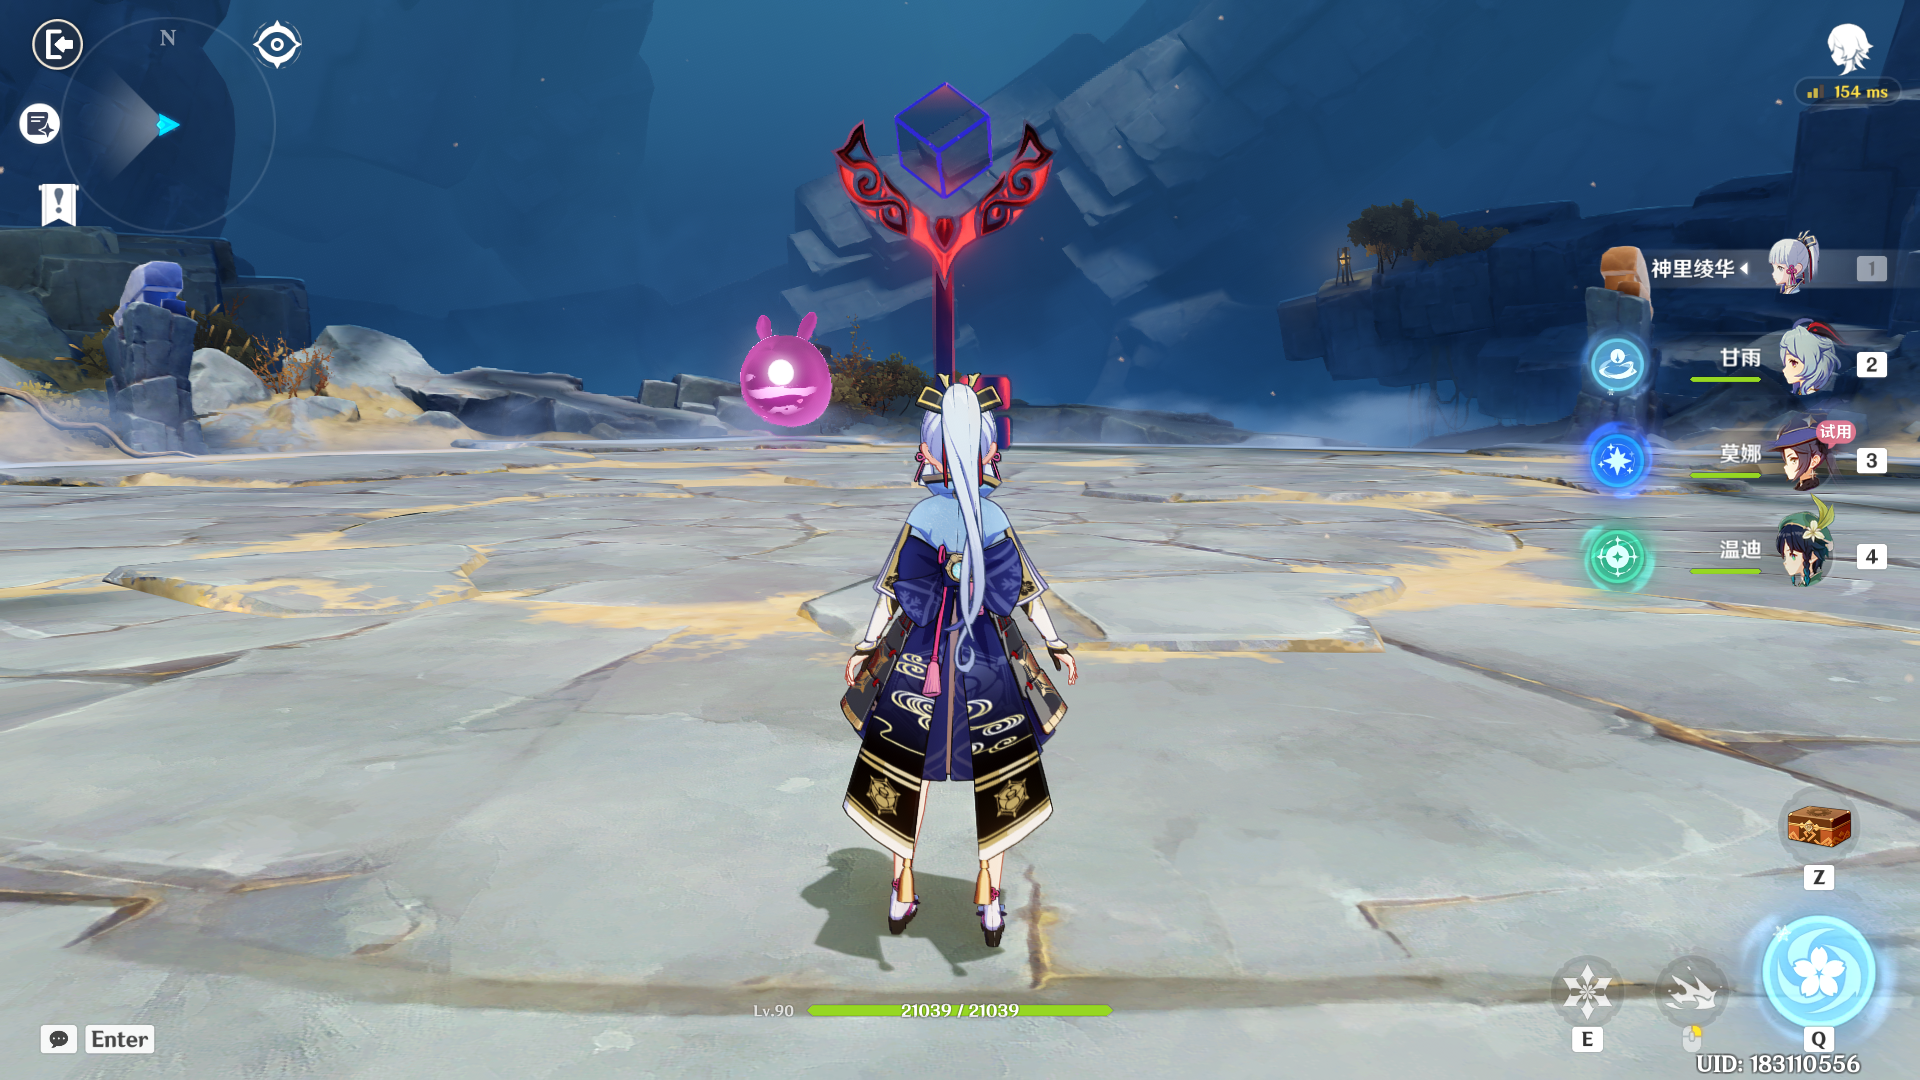character: (800, 345, 1130, 957)
